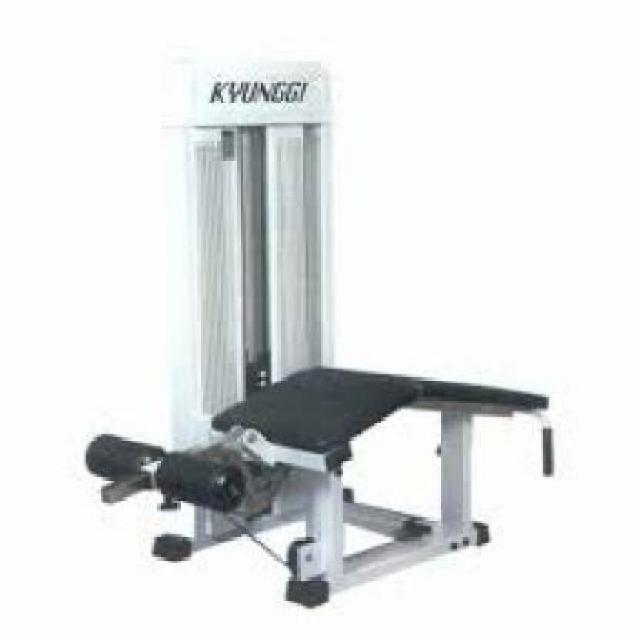reg curl machine: (80, 56, 566, 606)
